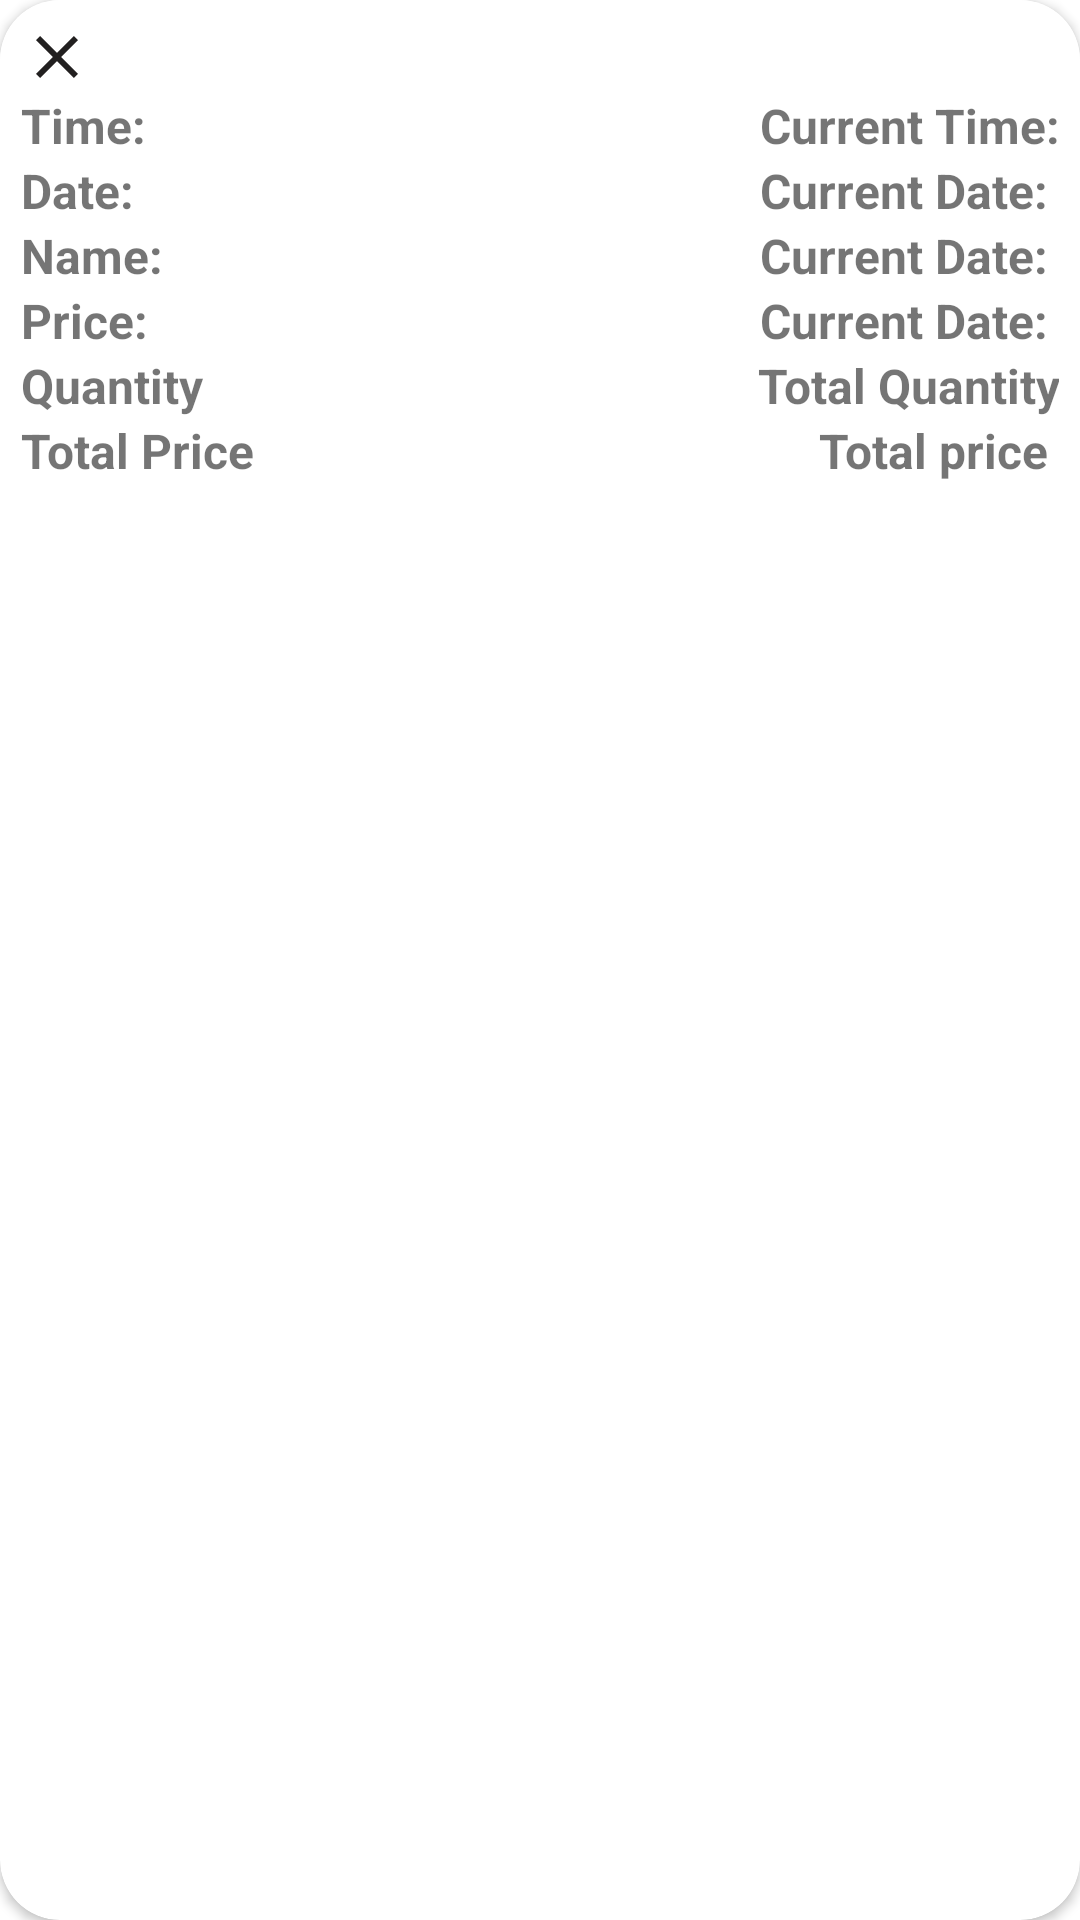

Icons on this 1080×1920 Android screen, each with the point to tap as [x,y]:
close: [57,57]
